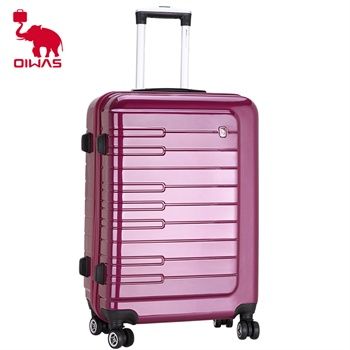luggage: (81, 8, 262, 349)
